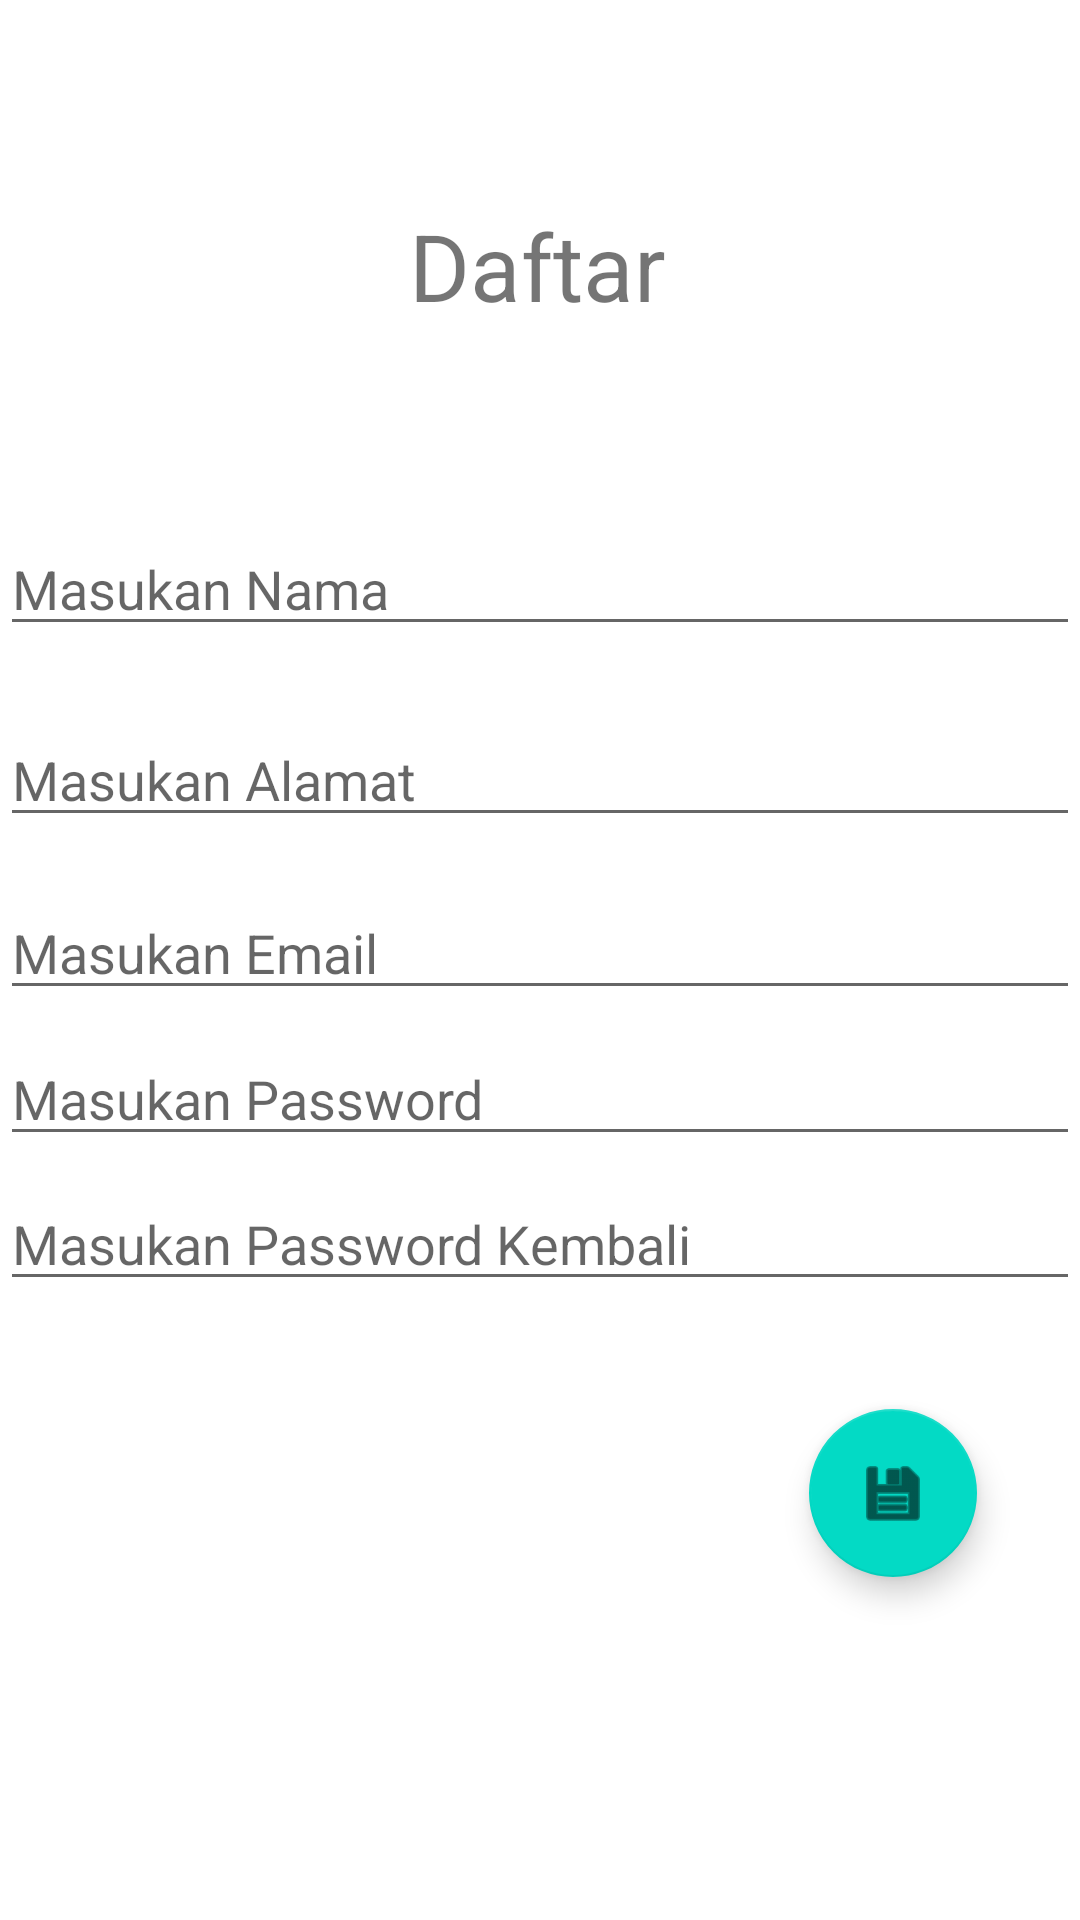

Named icons in this screenshot (1080px x 1920px) and their centers, (x,y):
save: (893,1493)
